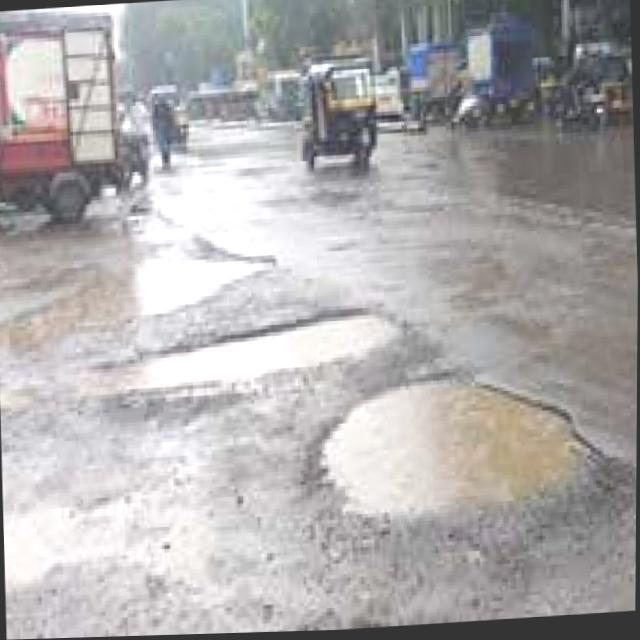Pothole: (321, 370, 602, 521), (0, 238, 261, 343), (91, 313, 402, 396)
